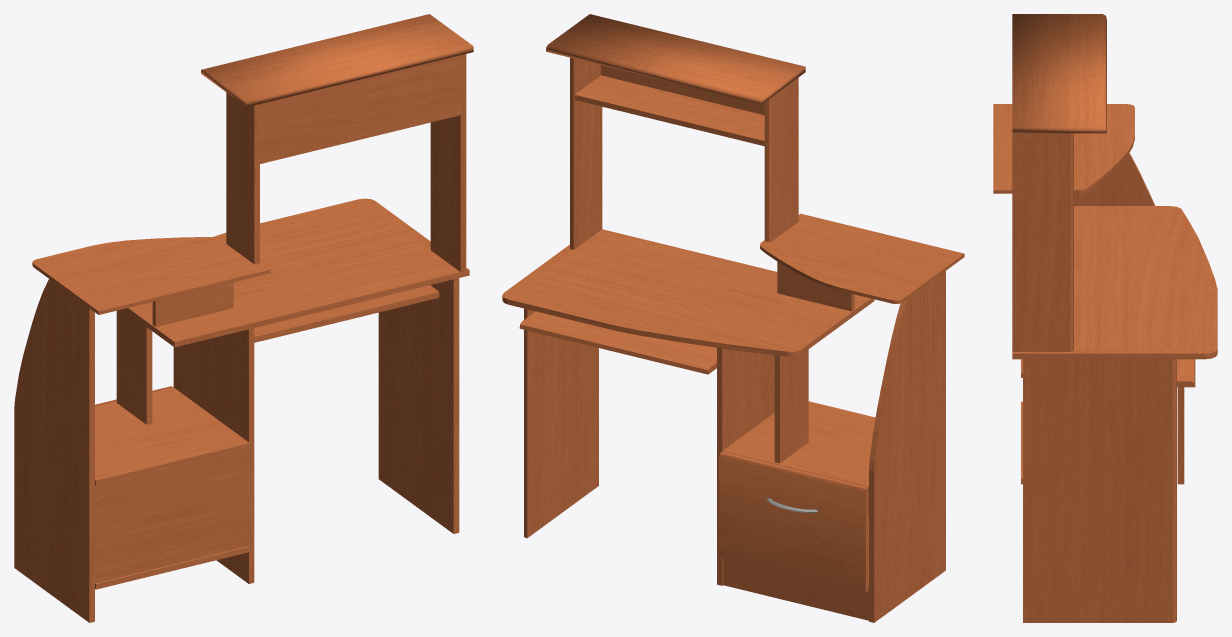
Rendered from PC_Desk.dae.
3 renders of one model, left to right at view 1: azimuth 30°, elevation 25°; view 2: azimuth 150°, elevation 25°; view 3: azimuth 270°, elevation 25°, orthographic. The views are drawn at different scales.
Visible parts, largest first — view 1: PC_Desk; view 2: PC_Desk; view 3: PC_Desk.
Boxes of the visible parts, <box> form: PC_Desk: <box>14,14,473,622</box>; PC_Desk: <box>502,14,964,622</box>; PC_Desk: <box>993,14,1217,622</box>.
Bounding box in the file's own units: 1.11 × 0.5465 × 1.34.
Materials: 2 (2 with a texture image).
